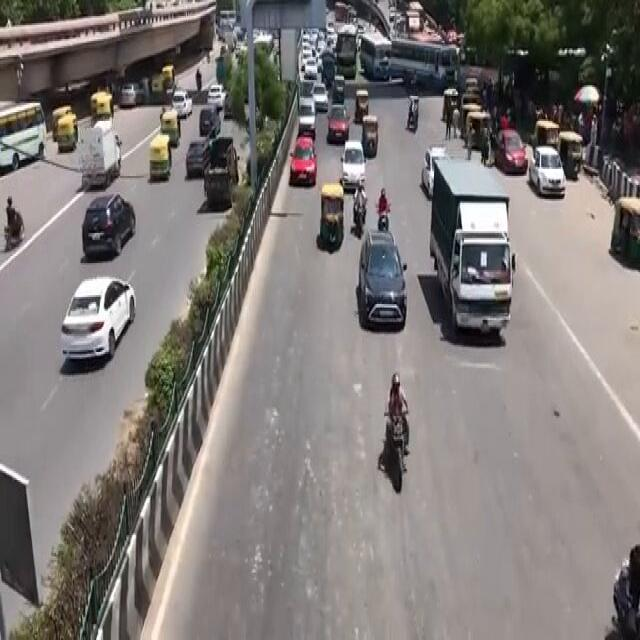three_wheeler: (316, 181, 349, 267)
